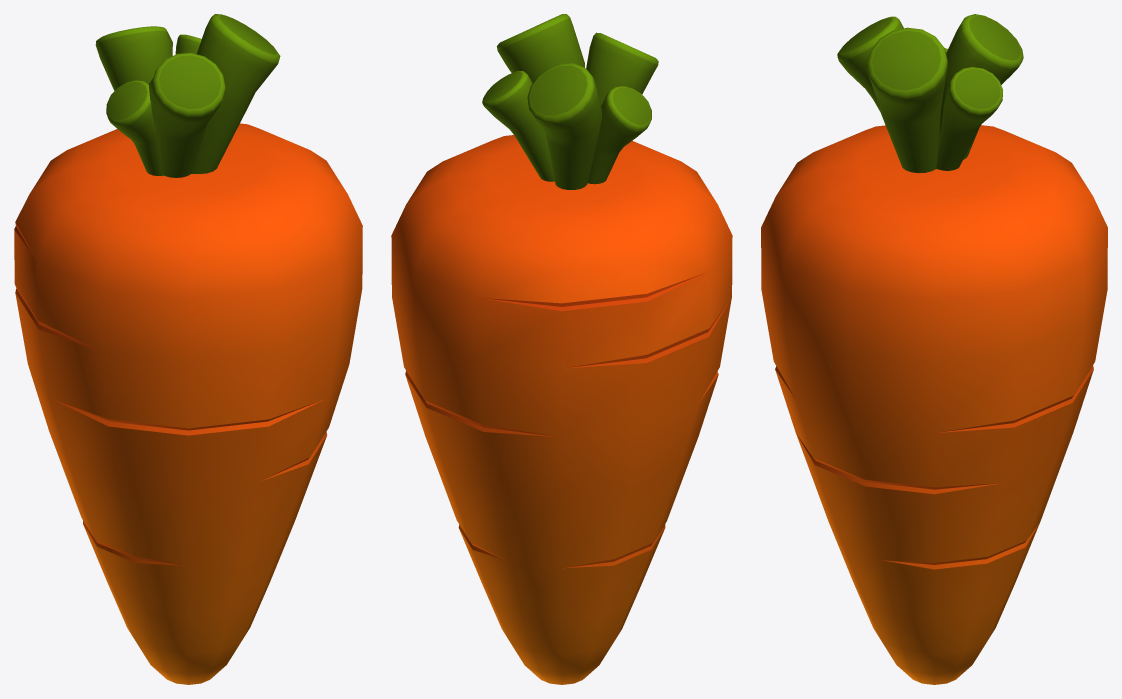
File: Carrot_V1_00.fbx
3 renders of one model, left to right at view 1: azimuth 30°, elevation 25°; view 2: azimuth 150°, elevation 25°; view 3: azimuth 270°, elevation 25°, orthographic. The views are drawn at different scales.
Visible parts, largest first — view 1: Carrot_V1_00; view 2: Carrot_V1_00; view 3: Carrot_V1_00.
Part boxes in pixels (x1,y1,x2,y2): Carrot_V1_00: (14, 14, 362, 684); Carrot_V1_00: (391, 14, 732, 684); Carrot_V1_00: (761, 14, 1107, 684).
Bounding box in the file's own units: 21.21 × 44.63 × 21.21.
